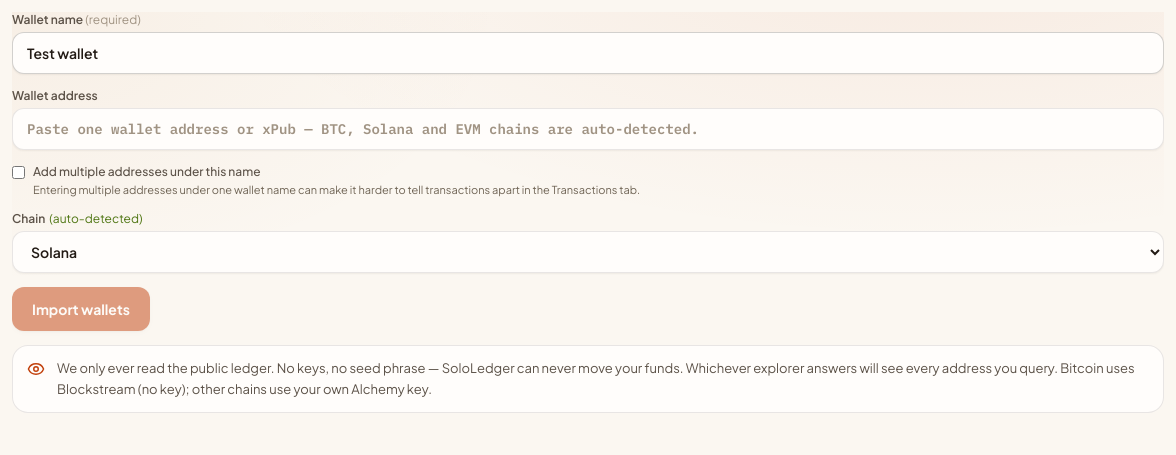
WalletAddressForm — EVM active-chain detection › per-chain and master toggles drive the Import button label and disabled state
Step 1. Replace the text in the field labelled "Wallet address" with "0xaaaaaaaaaaaaaaaaaaaaaaaaaaaaaaaaaaaaaaaa" → (588,129), box [12, 108, 1164, 150]
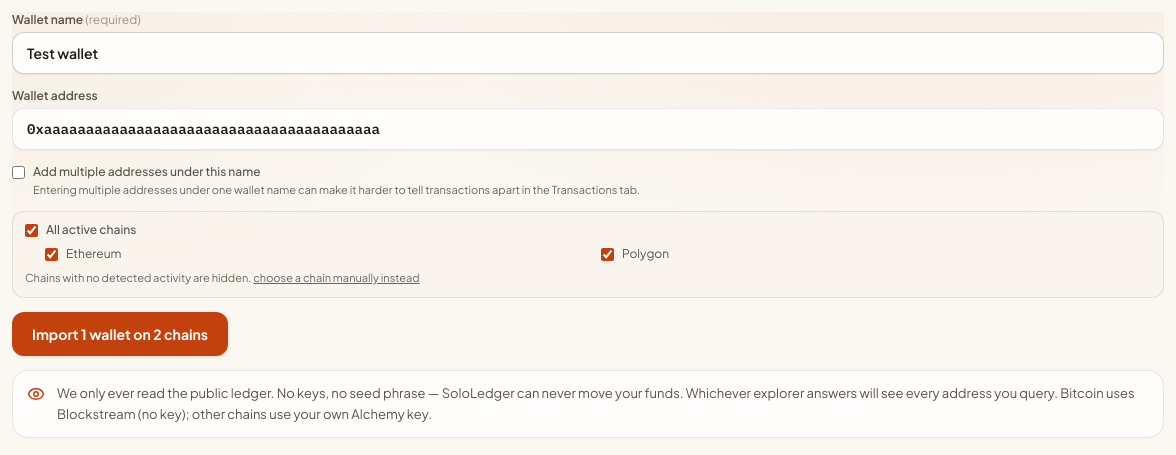
Expected: the element with test id "chain-picker" is shown, [12, 211, 1164, 298]
Step 2. Click the checkbox labelled "Polygon" → (608,254), box [601, 248, 614, 261]
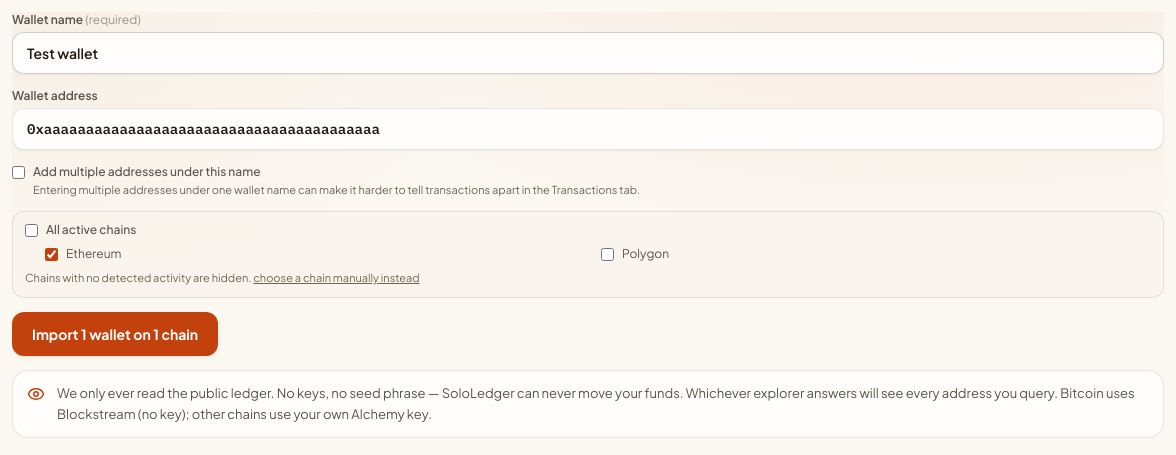
Expected: the button "Import 1 wallet on 1 chain" is enabled, [12, 312, 218, 356]
Expected: the checkbox labelled "All active chains" is not checked, [25, 224, 38, 237]
Step 3. Click the checkbox labelled "Ethereum" → (52,254), box [45, 248, 58, 261]
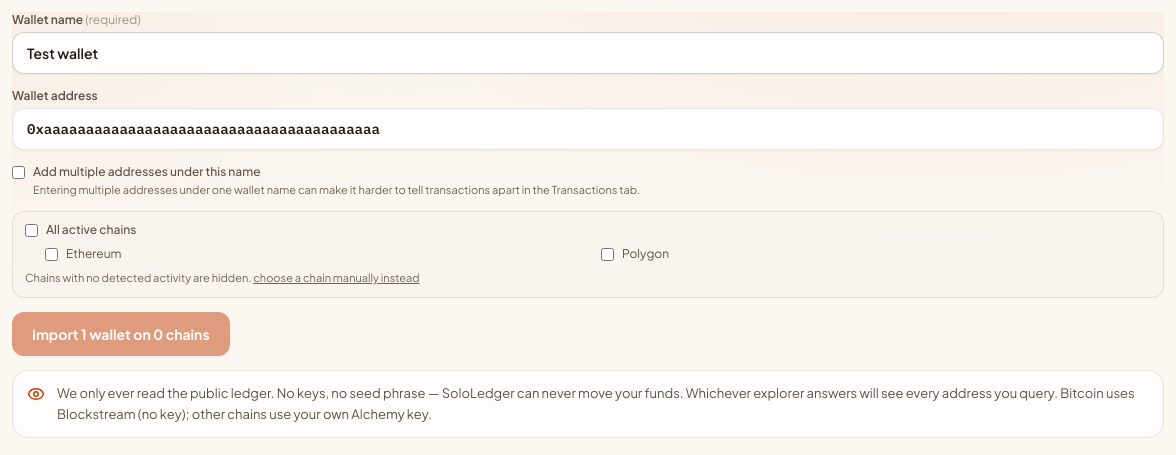
Expected: the button "Import 1 wallet on 0 chains" is disabled, [12, 312, 230, 356]
Step 4. Click the checkbox labelled "All active chains" → (32,230), box [25, 224, 38, 237]
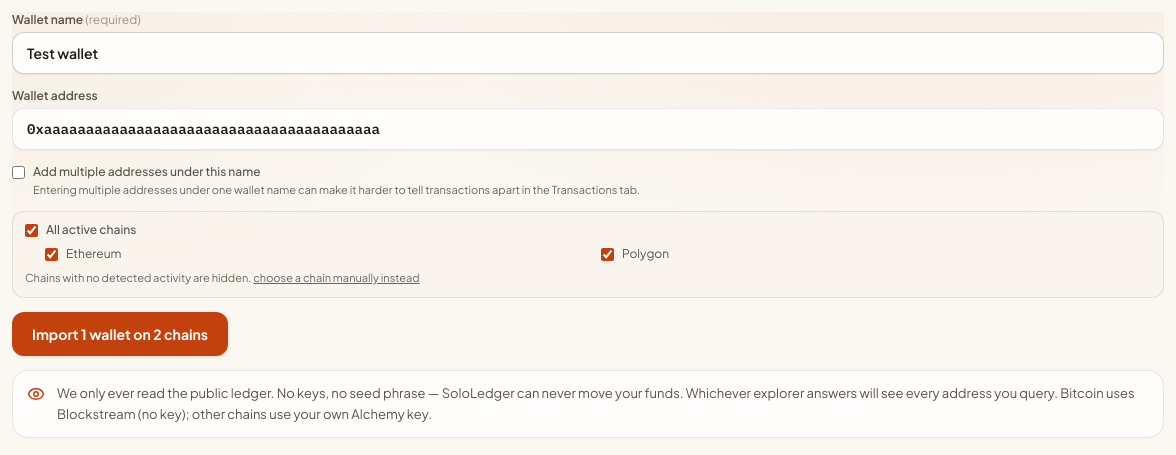
Expected: the button "Import 1 wallet on 2 chains" is enabled, [12, 312, 228, 356]
